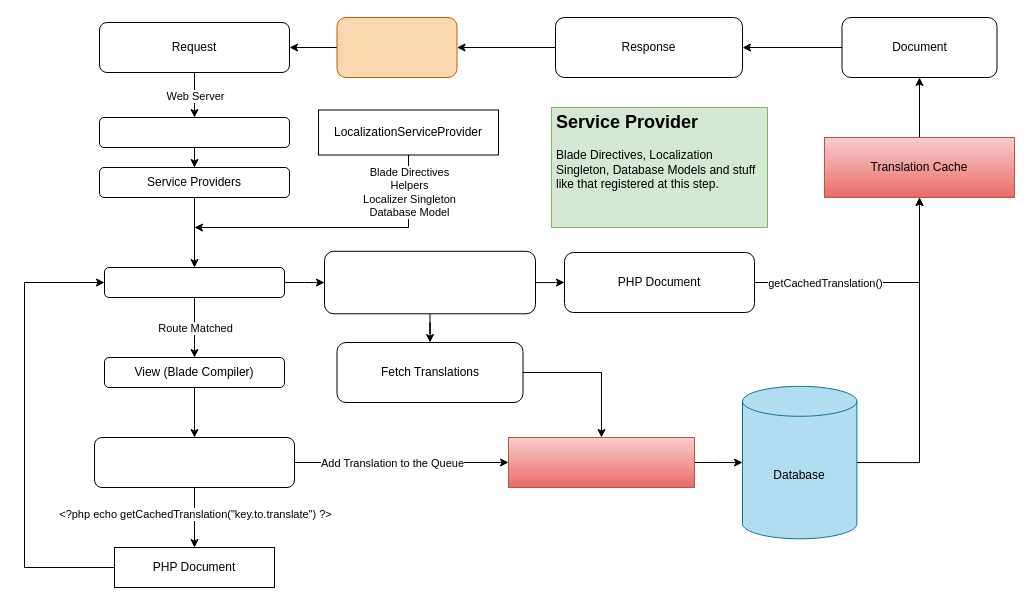
Some shapes in this 1032 by 605 pixel diagram are drawn without their labels. Each missing label, with the centre of its shape:
Blade Directive @t("key.to.translation"): point 194,462
Event Dispatcher RequestHandled: point 430,282
Kernel: point 194,132
Router: point 194,282
Translation Queue: point 601,462
User: point 396,47
